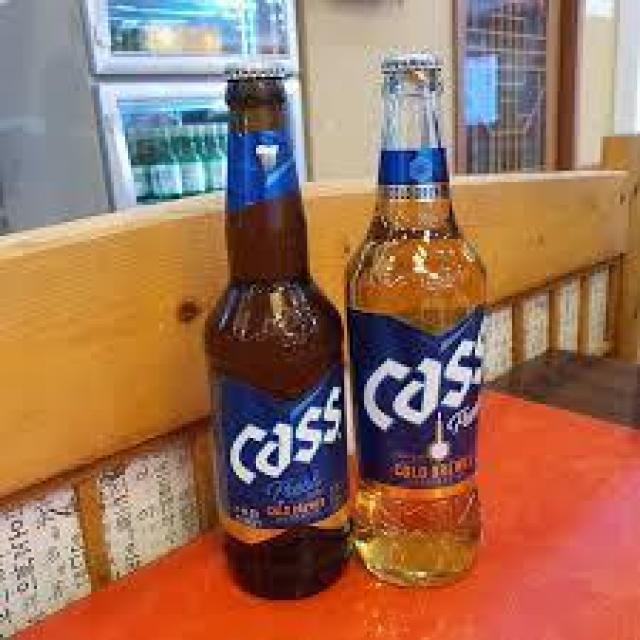beer-bottle: (196, 56, 356, 602), (344, 49, 492, 590)
